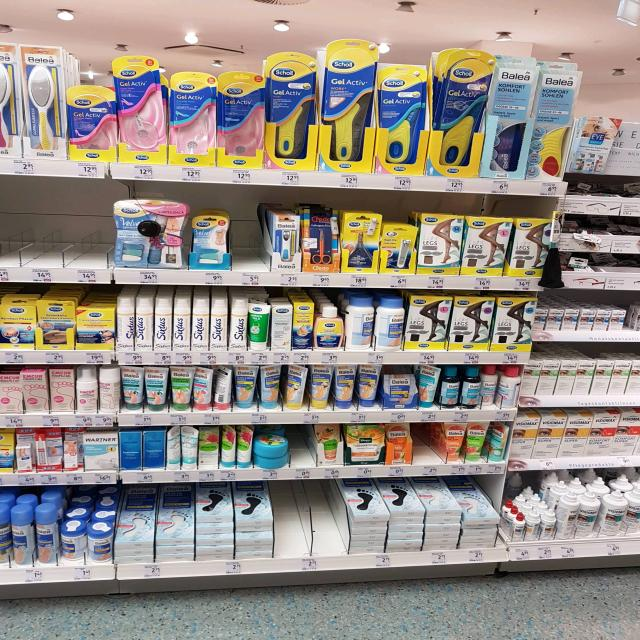empty: (3, 186, 106, 264), (275, 480, 343, 564), (229, 197, 274, 271), (407, 423, 445, 463), (288, 427, 321, 467)
